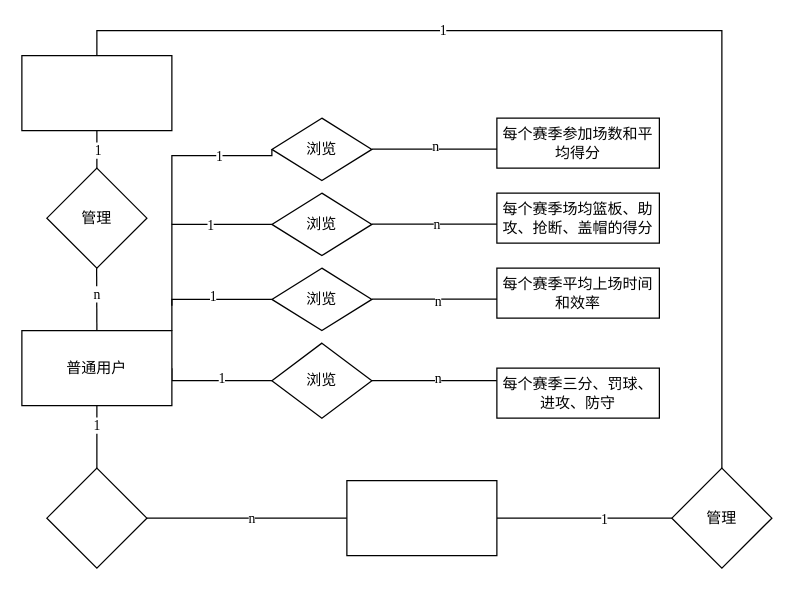
This 794x590 diagram has some shape labels left out. The shapes that lost their labels are listed below. From the top down, each one's centre as x and y in pixels, then its label:
At point (96, 92): "管理员".
At point (96, 517): "提供".
At point (421, 517): "模型数据".
